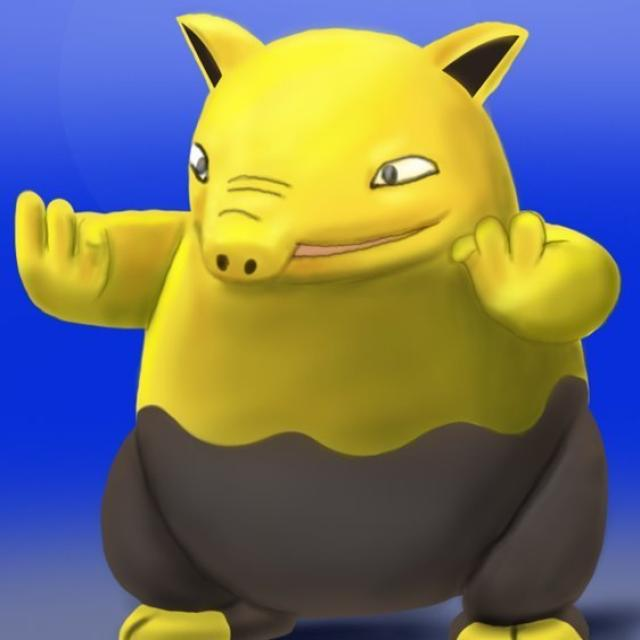Drowzee: (108, 14, 602, 640)
